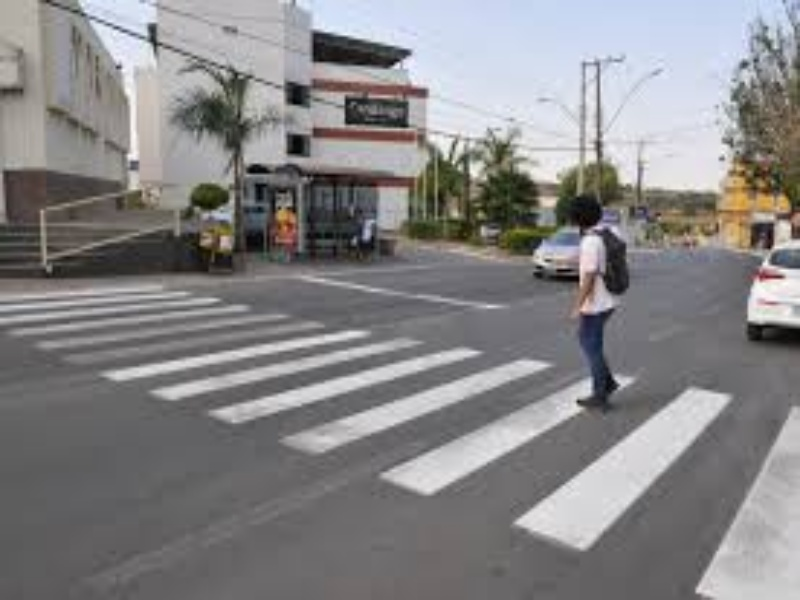zebra cross: (1, 285, 799, 599)
